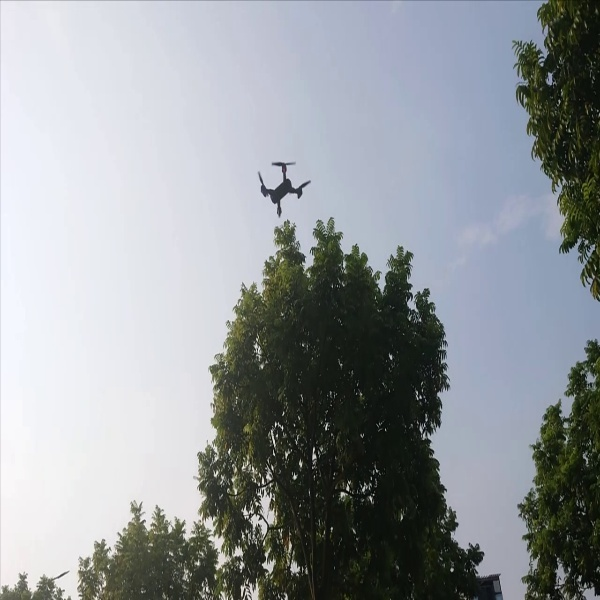drone: (247, 151, 312, 216)
